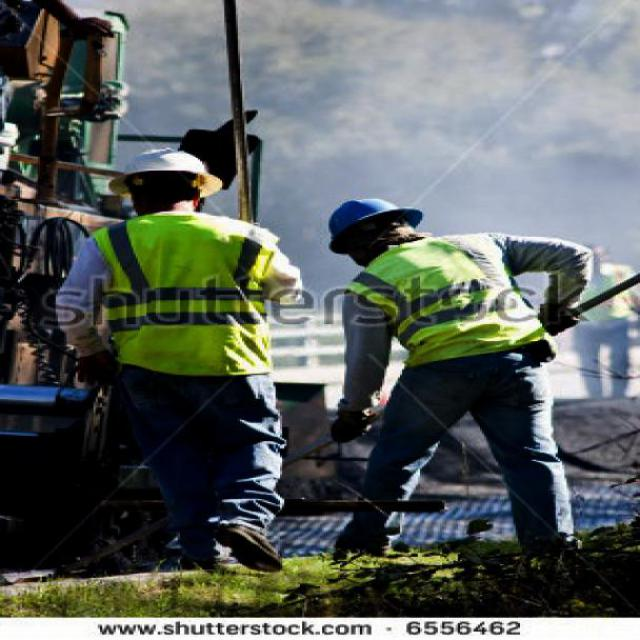gloves: (315, 400, 373, 440), (535, 300, 587, 336)
helmet: (111, 136, 231, 218), (313, 180, 435, 258)
vest: (90, 217, 258, 370), (355, 247, 527, 366)
